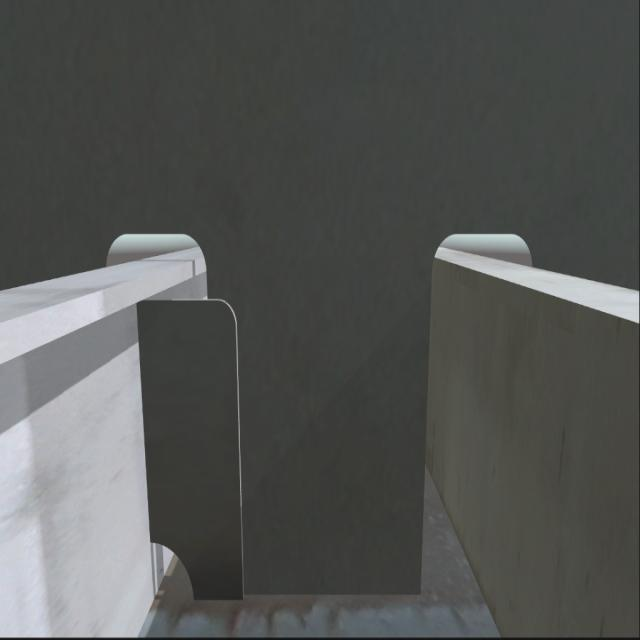fillet_hole: (146, 541, 191, 601)
fillet_yong_jeop_jang: (183, 572, 428, 612)
longi_yong_jeop_jang: (137, 294, 152, 548)
plate_CP05: (142, 298, 245, 594)
